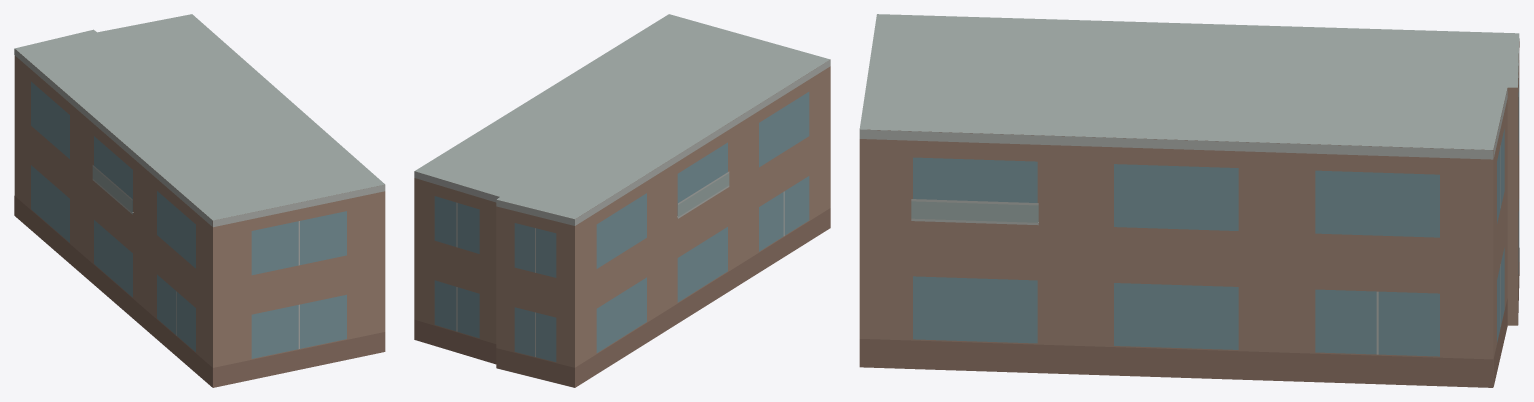
The model's file is survey-upis-32475715.glb.
The picture shows the model from 3 angles, left to right: view 1: azimuth 30°, elevation 25°; view 2: azimuth 150°, elevation 25°; view 3: azimuth 270°, elevation 25°; orthographic projection. The views are drawn at different scales.
Parts seen in each view (by area): view 1: survey-upis-32475715.tmp; view 2: survey-upis-32475715.tmp; view 3: survey-upis-32475715.tmp.
Boxes of the visible parts, x1,y1,x2,y2 form: survey-upis-32475715.tmp: [14, 14, 385, 387]; survey-upis-32475715.tmp: [414, 14, 830, 387]; survey-upis-32475715.tmp: [859, 14, 1519, 387].
Bounding box in the file's own units: 7.49 × 6.1 × 15.35.
